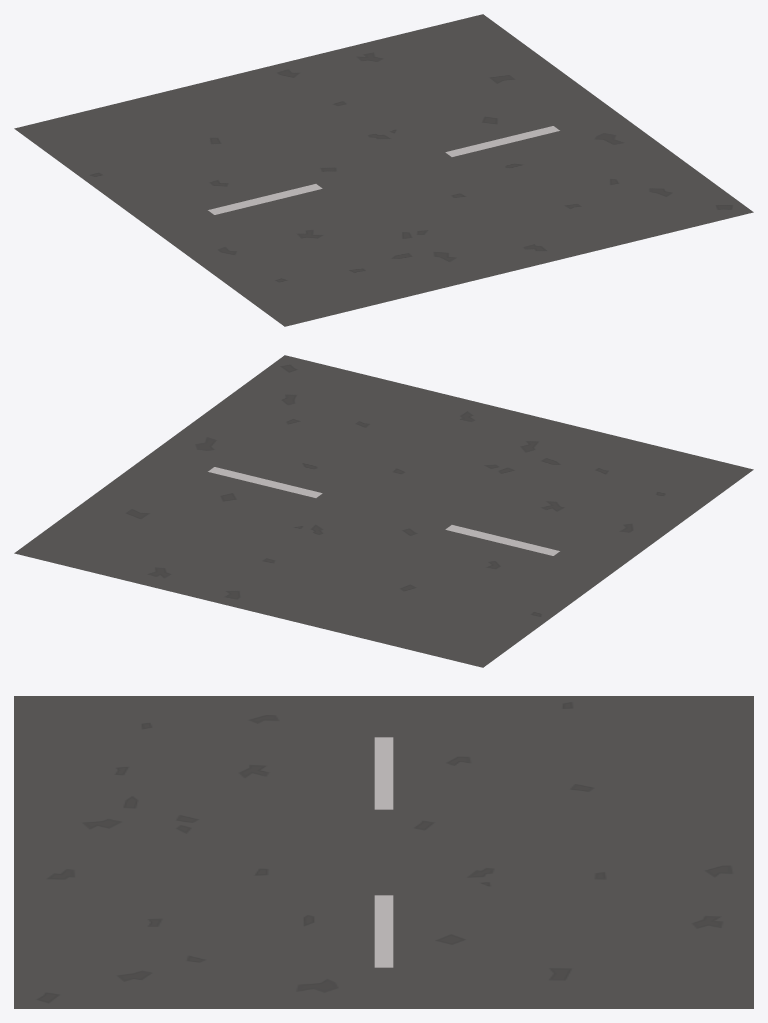
File: SM_Env_Ground_Lines_04.fbx
3 views of the same model, one above another, from view 1: azimuth 30°, elevation 25°; view 2: azimuth 150°, elevation 25°; view 3: azimuth 270°, elevation 25° (orthographic). The views are drawn at different scales.
Parts seen in each view (by area): view 1: SM_Env_Ground_Lines_04; view 2: SM_Env_Ground_Lines_04; view 3: SM_Env_Ground_Lines_04.
Part boxes in pixels (x1,y1,x2,y2): SM_Env_Ground_Lines_04: (14,14,753,326); SM_Env_Ground_Lines_04: (14,355,753,667); SM_Env_Ground_Lines_04: (14,696,753,1008).
Size of the model in its own units: 1000 by 0 by 1000.
